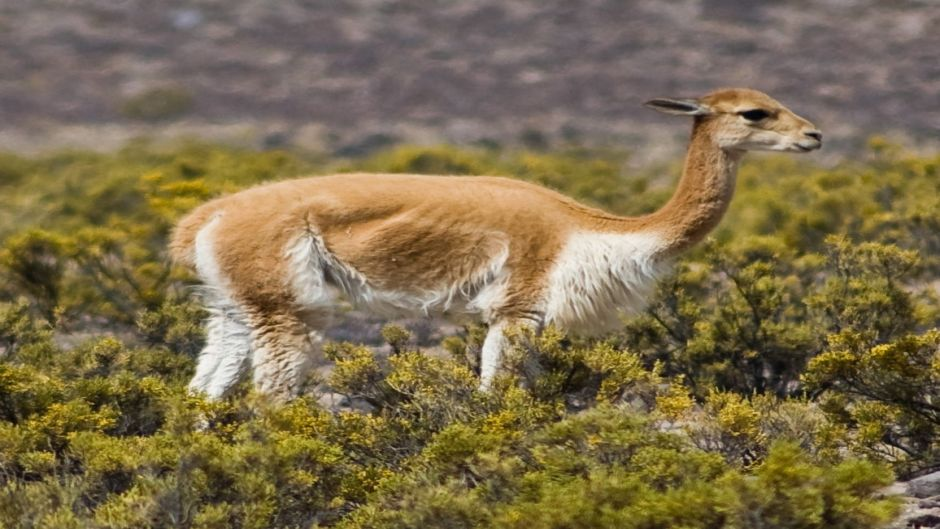eye: (733, 104, 775, 130)
mouth: (792, 125, 824, 162)
